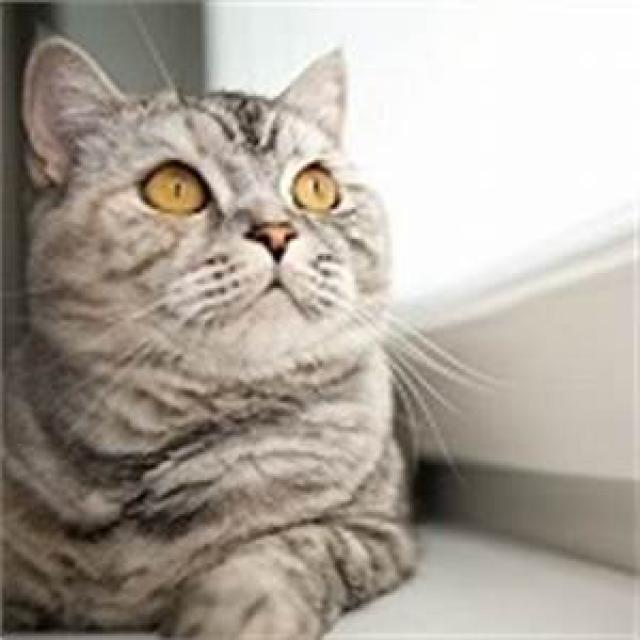KEDI: (0, 32, 450, 640)
